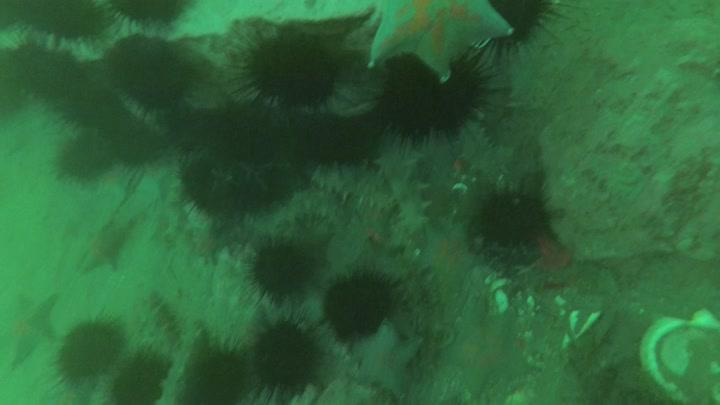urchin: (370, 50, 493, 141), (232, 24, 342, 116), (100, 34, 191, 110), (469, 181, 556, 251), (245, 312, 318, 393), (50, 307, 123, 381), (322, 267, 393, 343), (10, 34, 77, 100), (246, 237, 309, 302), (112, 340, 167, 405), (59, 125, 115, 187)
